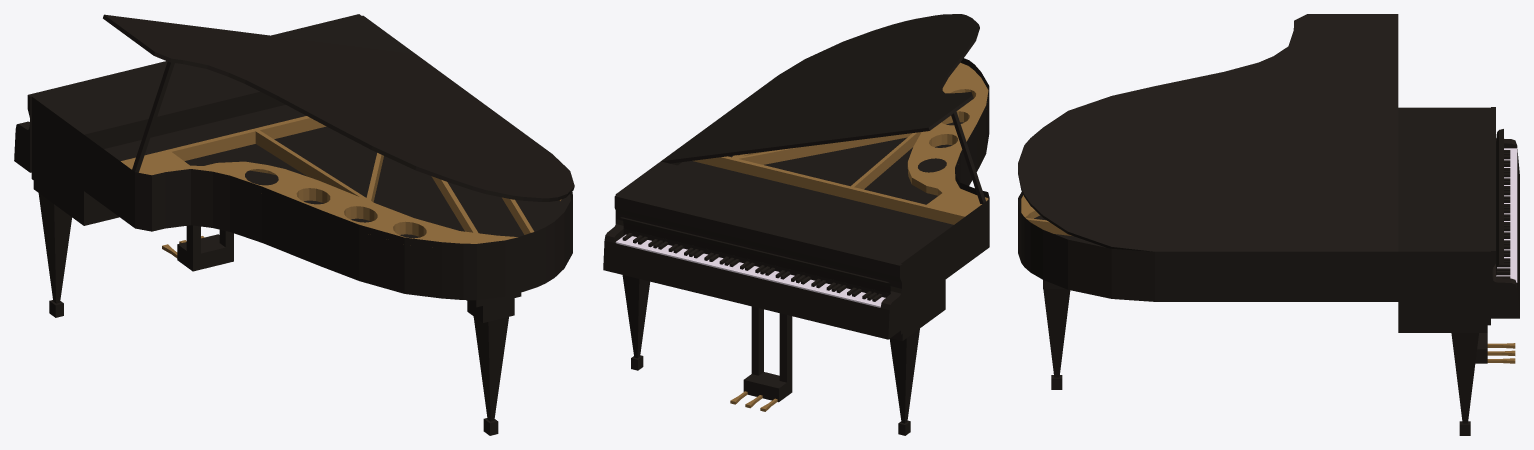
File: grand-piano.glb
The picture shows the model from 3 angles, left to right: view 1: azimuth 30°, elevation 25°; view 2: azimuth 150°, elevation 25°; view 3: azimuth 270°, elevation 25°; orthographic projection. The views are drawn at different scales.
Parts seen in each view (by area): view 1: Cube.001, Cube.008, Cube.022_Cube.024, Cube.005, Cube.003, Cube.010, Cube.009; view 2: Cube.001, Cube.008, Cube.022_Cube.024, Cube.006, Cube.002, Cube.010, Cube.003, Cube.004, Cube.009; view 3: Cube.008, Cube.001, Cube.006, Cube.005, Cube.004, Cube.002, Cube.022_Cube.024.
Part boxes in pixels (x1,y1,x2,y2): Cube.001: [14, 14, 572, 300]; Cube.008: [103, 14, 574, 201]; Cube.022_Cube.024: [121, 116, 561, 243]; Cube.005: [467, 292, 521, 435]; Cube.003: [38, 193, 71, 317]; Cube.010: [177, 225, 233, 271]; Cube.009: [132, 61, 174, 172]; Cube.001: [603, 58, 989, 340]; Cube.008: [661, 14, 979, 163]; Cube.022_Cube.024: [692, 62, 988, 224]; Cube.006: [615, 233, 885, 307]; Cube.002: [620, 217, 890, 293]; Cube.010: [743, 306, 792, 402]; Cube.003: [889, 328, 919, 435]; Cube.004: [622, 275, 650, 370]; Cube.009: [951, 111, 985, 203]; Cube.008: [1018, 14, 1398, 251]; Cube.001: [1018, 107, 1519, 332]; Cube.006: [1496, 148, 1517, 282]; Cube.005: [1043, 280, 1070, 389]; Cube.004: [1451, 333, 1478, 435]; Cube.002: [1496, 129, 1503, 275]; Cube.022_Cube.024: [1021, 195, 1071, 235].
Bounding box in the file's own units: 1.5 × 1.4 × 2.2.
